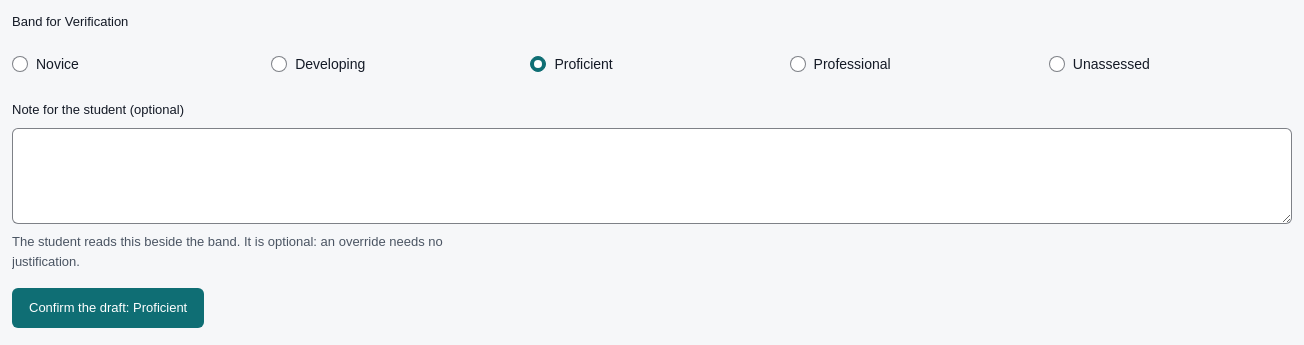
Test: the draft is pre-selected but not submitted › names the override in the primary control once the selection moves off the draft
Click the radio button named "Novice" next to "Novice" at (20, 64), box [12, 56, 28, 72]
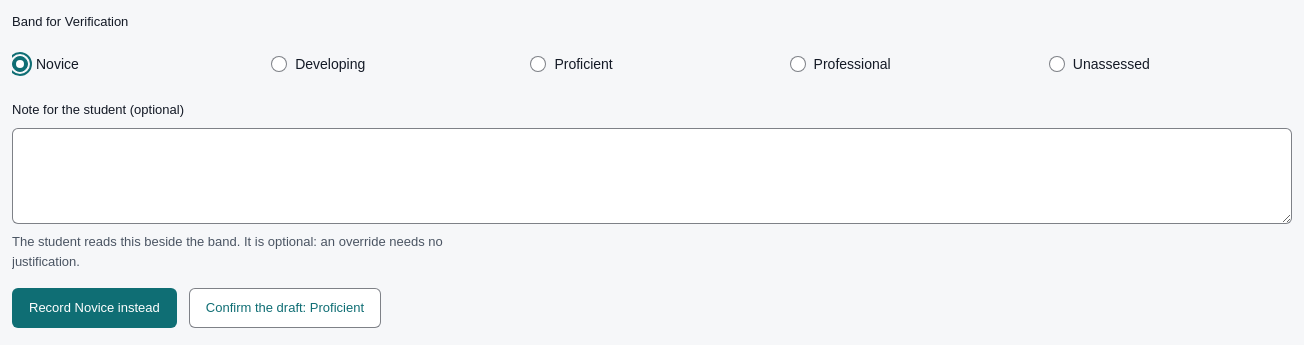
Expected: the button "Confirm the draft: Proficient" is shown, [189, 288, 381, 328]
Expected: the button "Record Novice instead" is shown, [12, 288, 177, 328]
